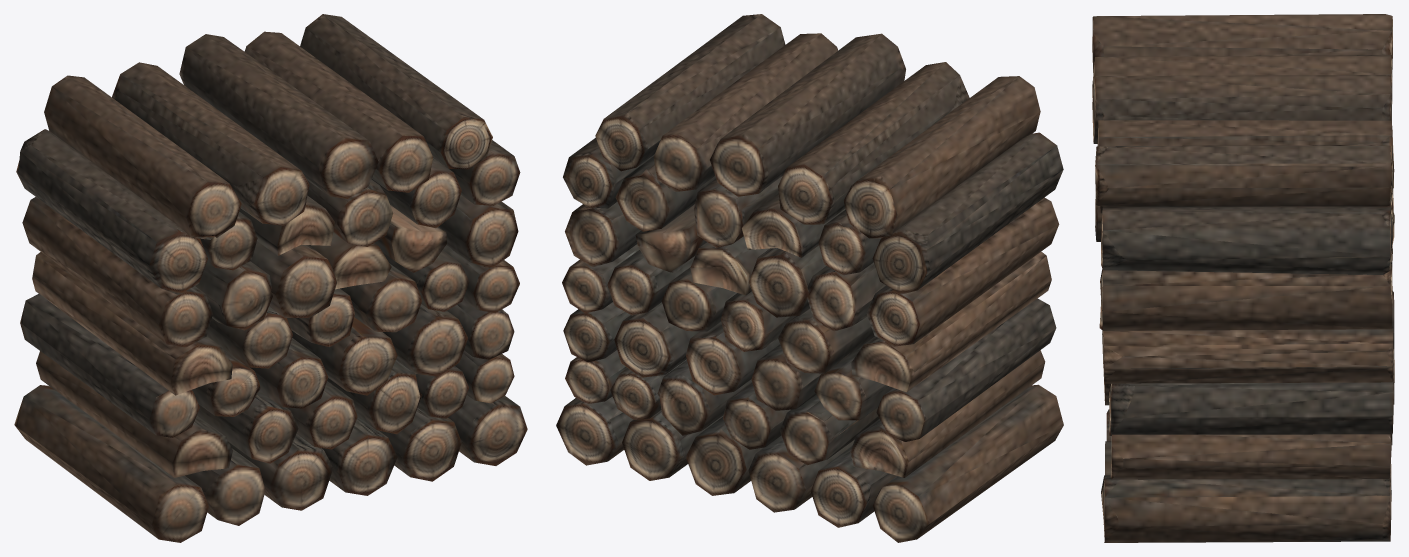
File: prop_logpile.glb
The picture shows the model from 3 angles, left to right: view 1: azimuth 30°, elevation 25°; view 2: azimuth 150°, elevation 25°; view 3: azimuth 270°, elevation 25°; orthographic projection. The views are drawn at different scales.
Bounding box in the file's own units: 1.17 × 1.1 × 0.777.
1 material, 1 textured.
